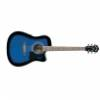guitar: (7, 31, 99, 69)
